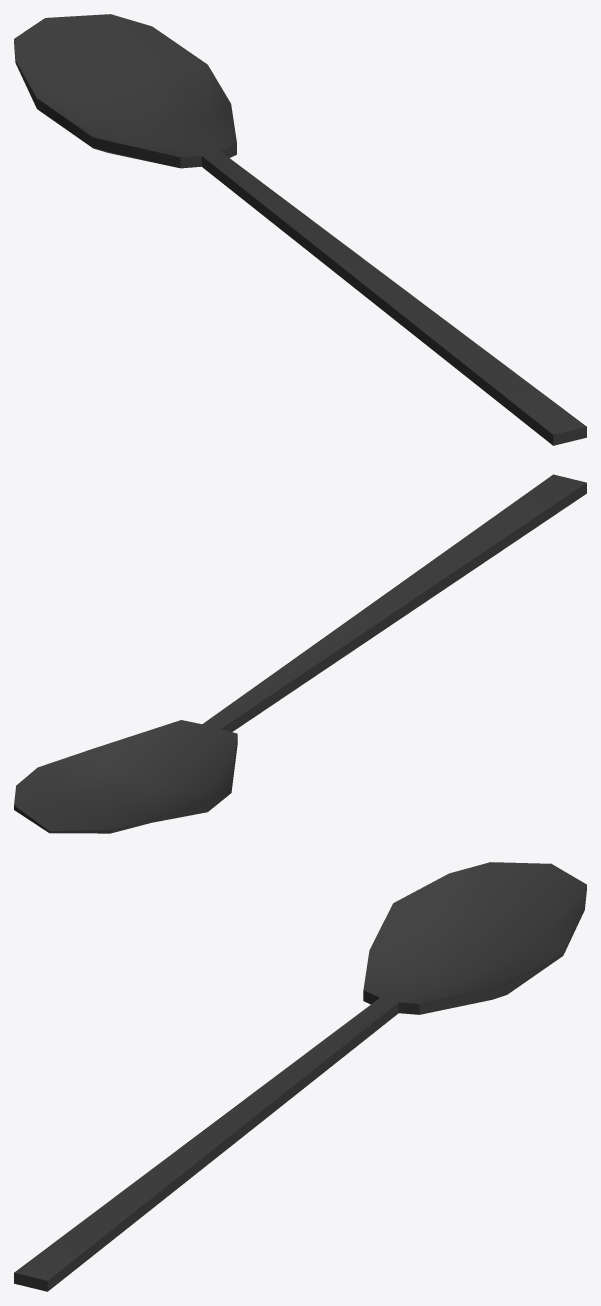
File: Spoon.FBX
3 views of the same model, one above another, from view 1: azimuth 30°, elevation 25°; view 2: azimuth 150°, elevation 25°; view 3: azimuth 330°, elevation 25° (orthographic).
Visible parts, largest first — view 1: Fork001; view 2: Fork001; view 3: Fork001.
Boxes of the visible parts, box(x1,y1,x2,y2) form: Fork001: box(14, 14, 586, 445); Fork001: box(14, 474, 586, 833); Fork001: box(14, 862, 586, 1291).
Bounding box in the file's own units: 16.35 × 4 × 86.86.
